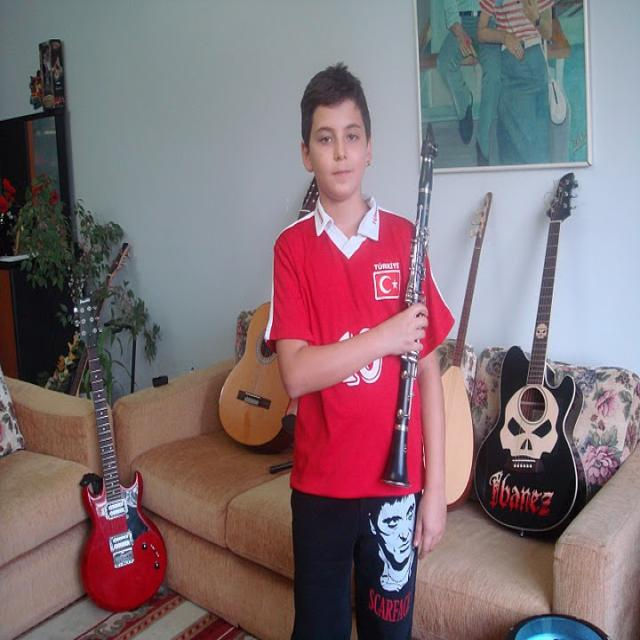clarinet: (380, 121, 441, 490)
guitar: (477, 169, 583, 540), (74, 293, 170, 609), (218, 168, 324, 446)
